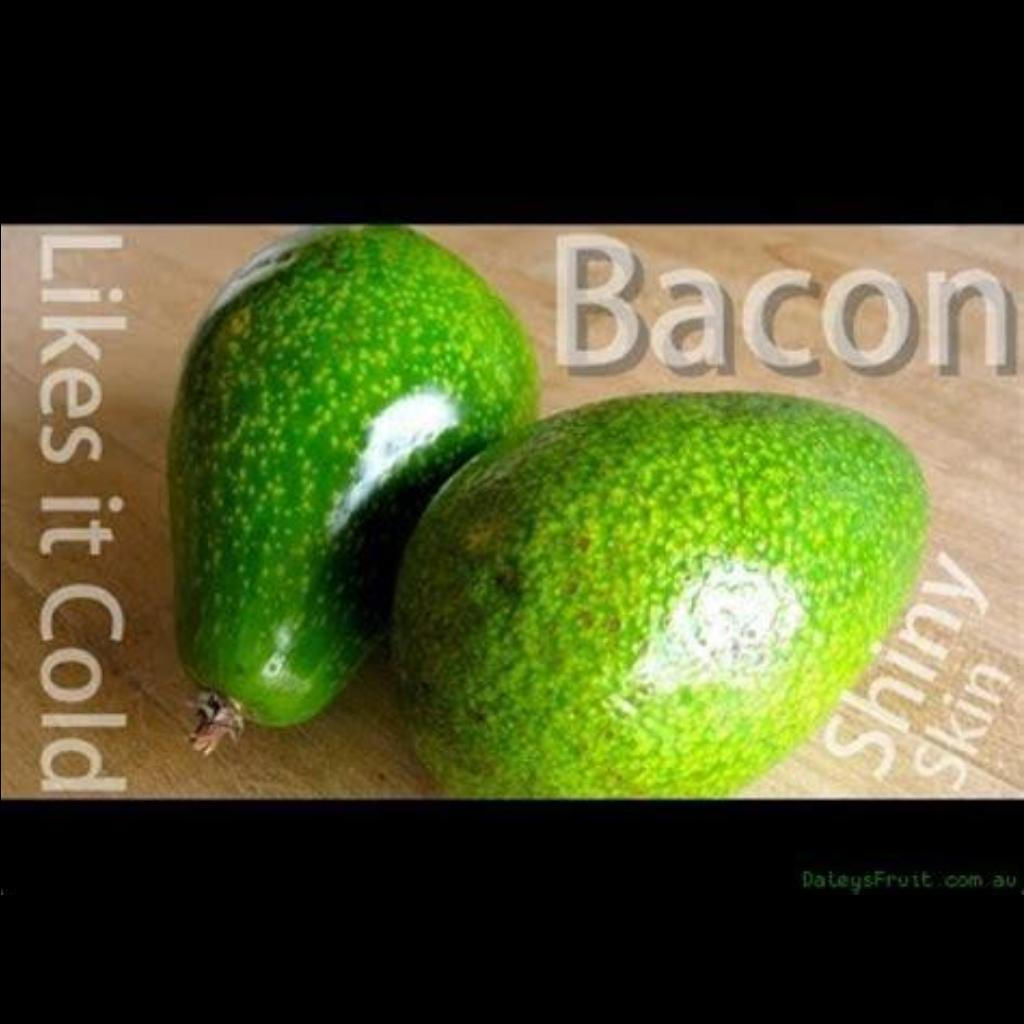Healthy: (380, 372, 944, 794), (142, 226, 458, 750)
